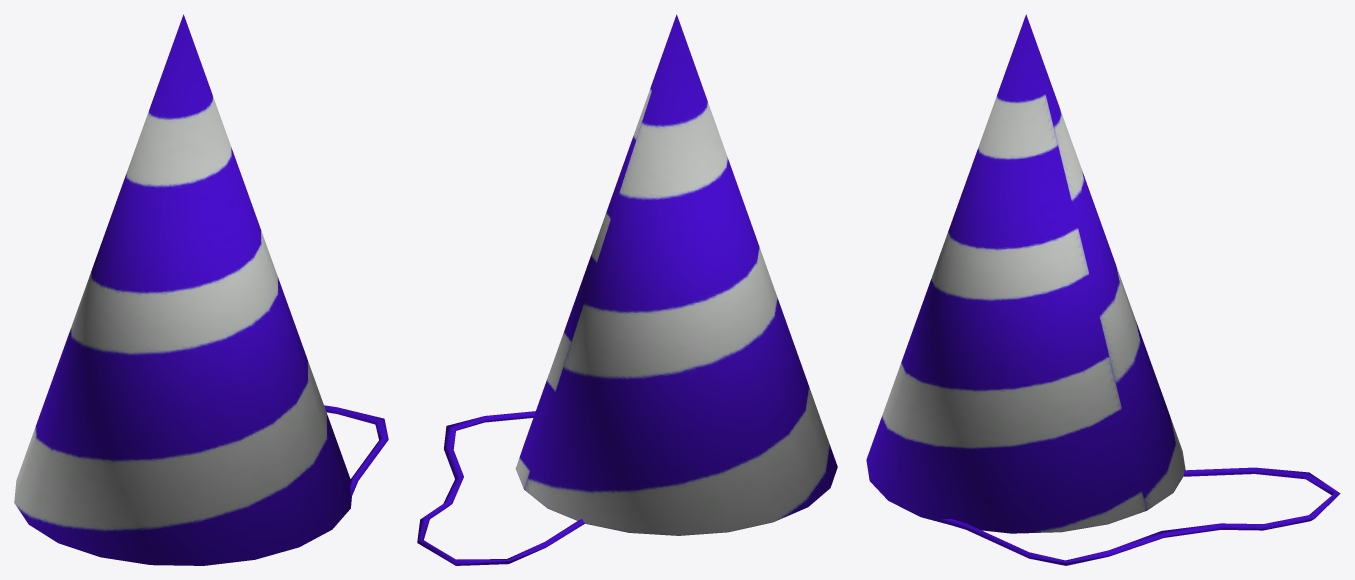
File: partyhat4_reference_006.fbx
3 views of the same model, side by side, from view 1: azimuth 30°, elevation 25°; view 2: azimuth 150°, elevation 25°; view 3: azimuth 270°, elevation 25° (orthographic). The views are drawn at different scales.
Visible parts, largest first — view 1: partyhat4_reference.006; view 2: partyhat4_reference.006; view 3: partyhat4_reference.006.
Part boxes in pixels (left/top/right/bottom): partyhat4_reference.006: left=14, top=14, right=388, bottom=565; partyhat4_reference.006: left=417, top=14, right=837, bottom=565; partyhat4_reference.006: left=866, top=14, right=1340, bottom=565.
Size of the model in its own units: 31.59 by 39.53 by 37.32.
